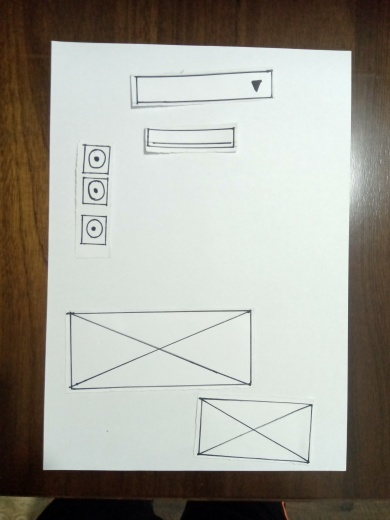dropdown: (132, 72, 272, 105)
img: (70, 310, 250, 387), (202, 401, 310, 462)
radio: (85, 145, 110, 175), (82, 214, 103, 247), (84, 180, 105, 206)
text: (145, 129, 233, 148)
